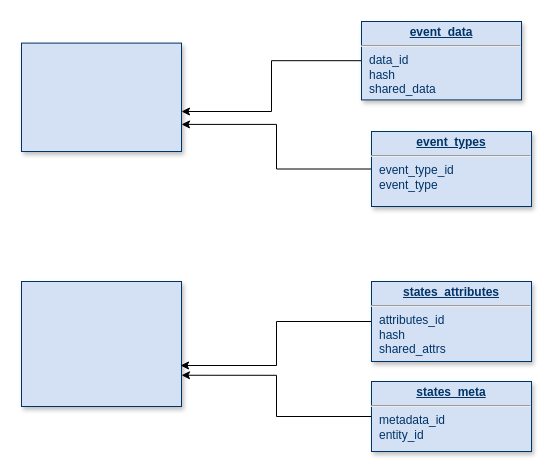
Image size: 555x476. Some labels were removed from this diagram. The shapes that lost their labels are listed below. From the top down, each one's centre as x and y in pixels, then its label:
At [102,98]: "Events event_id time_fired_ts data_id event_type_id context_id_bin".
At [102,345]: "states state_id state last_updated_ts attributes_id metadata_id context_id_bin".
